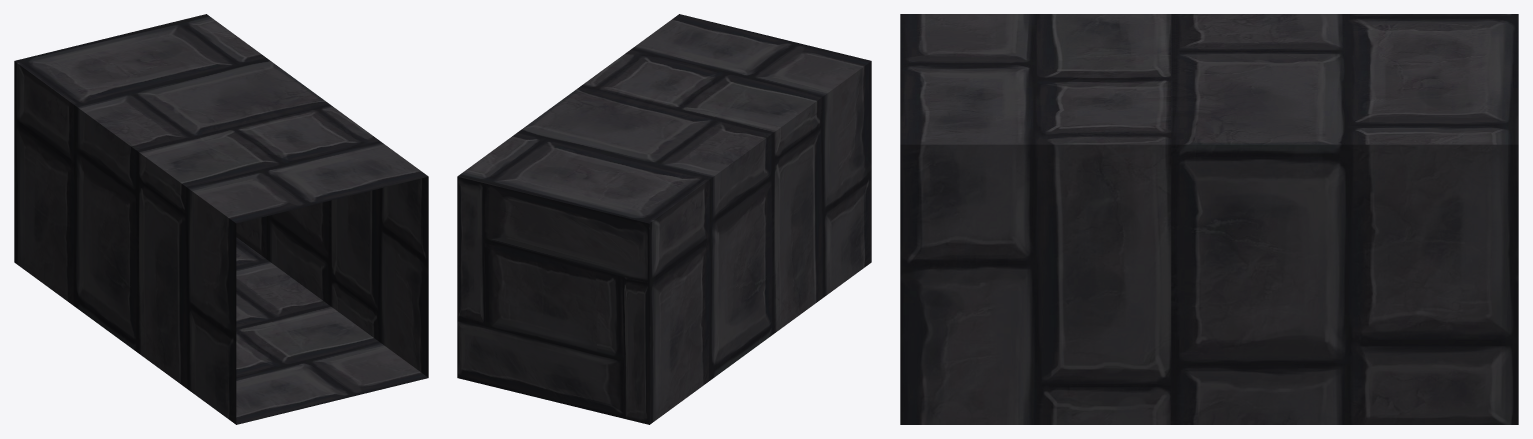
File: interiorWall_1x2.dae
3 renders of one model, left to right at view 1: azimuth 30°, elevation 25°; view 2: azimuth 150°, elevation 25°; view 3: azimuth 270°, elevation 25°, orthographic. The views are drawn at different scales.
Visible parts, largest first — view 1: Cube_003; view 2: Cube_003; view 3: Cube_003.
Boxes of the visible parts, box(x1,y1,x2,y2) form: Cube_003: box(14, 14, 428, 424); Cube_003: box(457, 14, 871, 424); Cube_003: box(900, 14, 1518, 424).
Bounding box in the file's own units: 2 × 4 × 2.
1 material, 1 textured.
